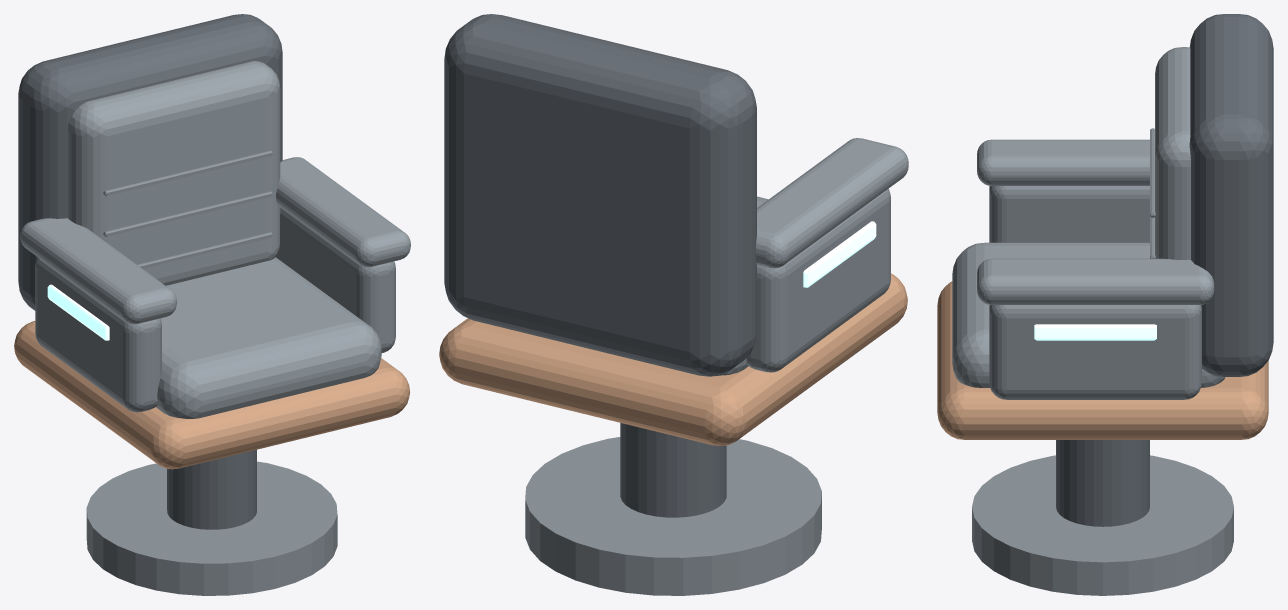
The model's file is droid_operator_chair.glb.
3 views of the same model, side by side, from view 1: azimuth 30°, elevation 25°; view 2: azimuth 150°, elevation 25°; view 3: azimuth 270°, elevation 25° (orthographic). The views are drawn at different scales.
Visible parts, largest first — view 1: back_cushion_007, seat_cushion_005, column_001, back_shell_006, seat_frame_004, shell_011, shell_012, shell_015, shell_014, column_002, stitch_009, stitch_010 (+2 smaller); view 2: back_shell_006, column_001, seat_frame_004, shell_011, shell_012, column_002, shell_013; view 3: back_shell_006, column_001, shell_014, seat_frame_004, shell_015, shell_011, shell_012, column_002, seat_cushion_005, back_cushion_007, shell_016, stitch_010.
Part boxes in pixels (x1,y1,x2,y2): back_cushion_007: (67,61,280,285); seat_cushion_005: (156,257,381,418); column_001: (86,461,337,595); back_shell_006: (18,14,282,310); seat_frame_004: (14,321,409,469); shell_011: (35,257,161,412); shell_012: (20,218,176,324); shell_015: (276,157,410,267); shell_014: (275,206,395,352); column_002: (167,449,256,529); stitch_009: (103,191,272,236); stitch_010: (103,150,272,196); back_shell_006: (444,14,756,376); column_001: (525,437,821,595); seat_frame_004: (439,273,907,445); shell_011: (746,189,890,372); shell_012: (756,138,908,268); column_002: (620,423,726,517); shell_013: (803,221,876,287); back_shell_006: (1189,14,1273,376); column_001: (972,455,1233,595); shell_014: (989,305,1201,399); seat_frame_004: (937,281,1268,439); shell_015: (977,258,1214,304); shell_011: (989,186,1149,242); shell_012: (977,139,1149,185); column_002: (1056,440,1149,526); seat_cushion_005: (952,242,1225,387); back_cushion_007: (1155,47,1190,259); shell_016: (1034,324,1156,340); stitch_010: (1150,128,1155,217).
Size of the model in its own units: 0.7 by 1.06 by 0.68.
